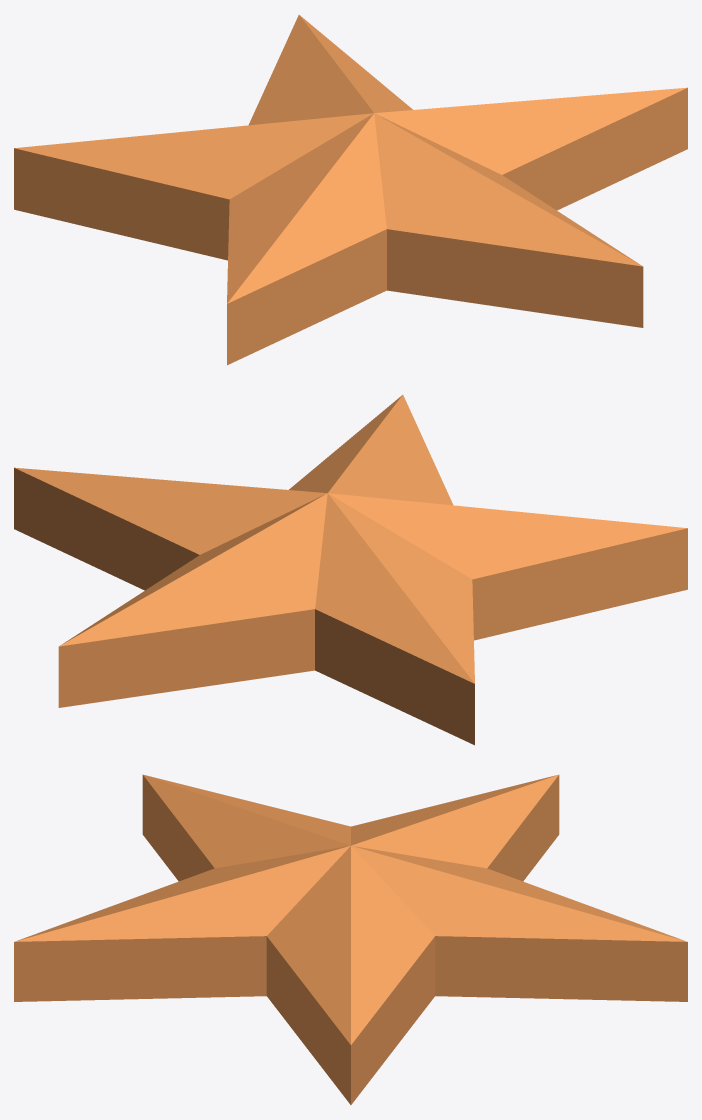
The model's file is etoile.fbx.
The picture shows the model from 3 angles, top to bottom: view 1: azimuth 30°, elevation 25°; view 2: azimuth 150°, elevation 25°; view 3: azimuth 270°, elevation 25°; orthographic projection. The views are drawn at different scales.
Visible parts, largest first — view 1: PolySurface_Star_02; view 2: PolySurface_Star_02; view 3: PolySurface_Star_02.
Part boxes in pixels (<box>): PolySurface_Star_02: <box>14,15,687,365</box>; PolySurface_Star_02: <box>14,395,687,745</box>; PolySurface_Star_02: <box>14,774,687,1104</box>.
Bounding box in the file's own units: 45.6 × 8.64 × 47.95.
